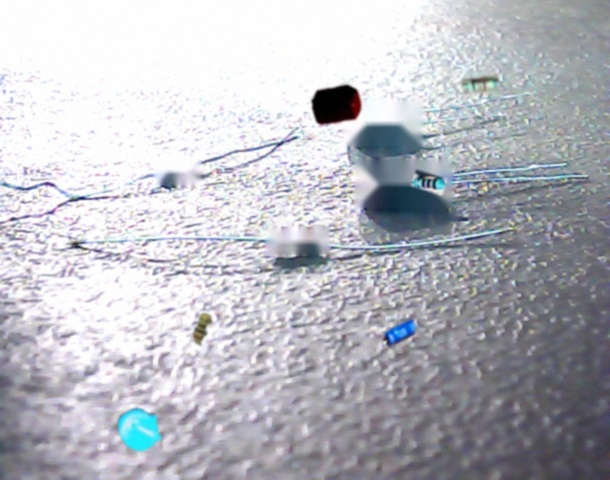capacitor: (311, 85, 362, 125), (118, 408, 162, 452), (383, 319, 417, 347)
resistor: (411, 170, 447, 195), (462, 74, 500, 94), (193, 313, 212, 345)
